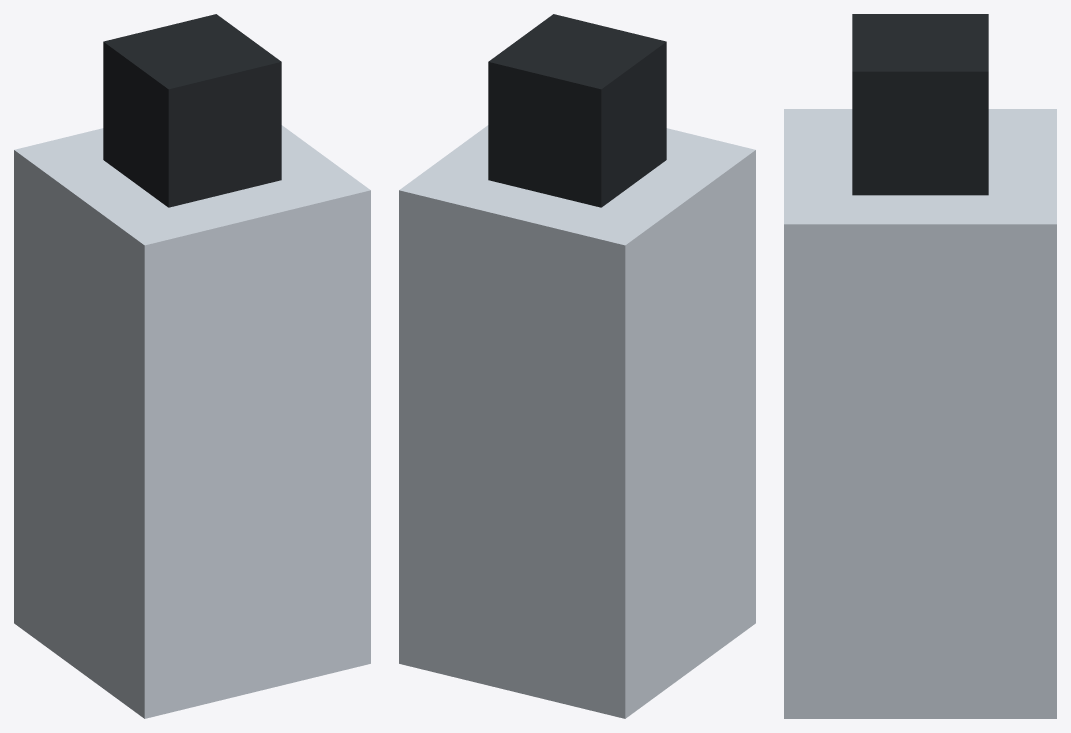
The model's file is candle.glb.
3 renders of one model, left to right at view 1: azimuth 30°, elevation 25°; view 2: azimuth 150°, elevation 25°; view 3: azimuth 270°, elevation 25°, orthographic. The views are drawn at different scales.
Parts seen in each view (by area): view 1: generated(Clone); view 2: generated(Clone); view 3: generated(Clone).
Boxes of the visible parts, x1,y1,x2,y2 form: generated(Clone): (14, 14, 370, 718); generated(Clone): (399, 14, 755, 718); generated(Clone): (784, 14, 1056, 718).
Bounding box in the file's own units: 2 × 5 × 2.
1 material, 1 textured.
